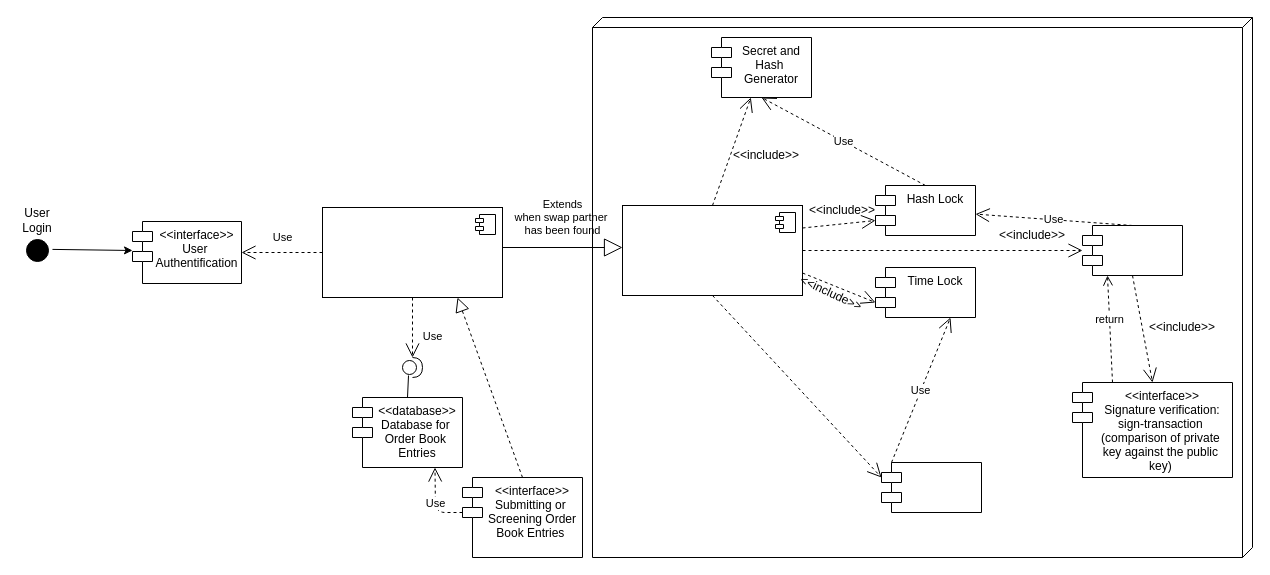
Some shapes in this 1270 by 575 pixel diagram are drawn without their labels. The box of each missing label's shape, as (x1, y1, x2, y2) in pixels:
Refund Process: (880, 462, 982, 512)
Swap Process: (1082, 224, 1182, 276)
«component» HTLC: (622, 204, 802, 296)
«UI» Swapchain Web Application: (322, 206, 502, 298)
